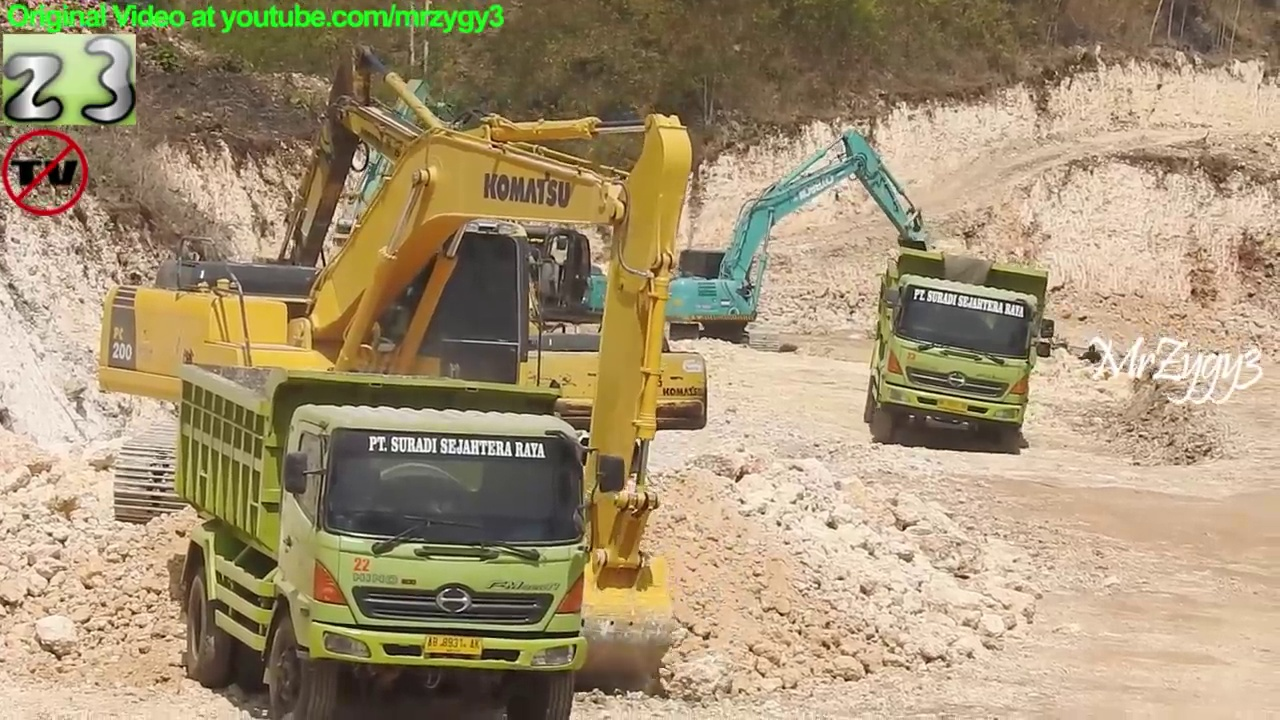excavator: (89, 105, 698, 699), (171, 41, 716, 499), (322, 74, 633, 376), (640, 124, 938, 362)
truck: (169, 354, 635, 720), (858, 243, 1060, 457)
